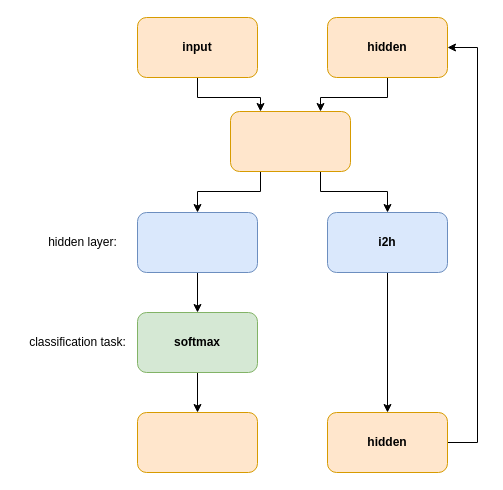
This 503x490 diagram has some shape labels left out. The shapes that lost their labels are listed below. From the top down, each one's centre as x and y in pixels, then its label:
At point (290, 141): "combined".
At point (197, 242): "i2o".
At point (197, 442): "output".
